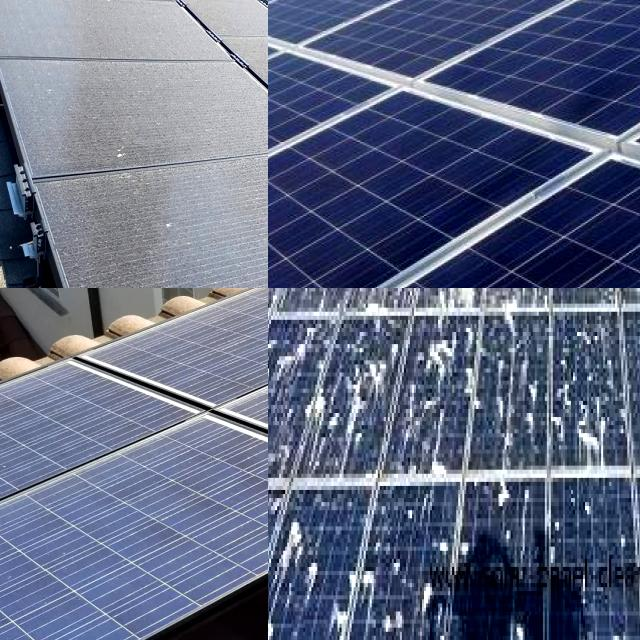bird: (489, 336, 540, 434), (353, 542, 403, 640), (342, 345, 390, 436), (286, 358, 331, 454), (422, 320, 468, 400), (490, 470, 530, 552), (566, 396, 614, 460), (274, 514, 300, 618), (432, 288, 474, 328), (617, 288, 640, 324), (572, 621, 598, 640), (607, 625, 631, 640)
crack: (268, 0, 640, 288), (268, 69, 602, 288)
dust: (80, 450, 266, 578), (18, 67, 244, 159), (82, 183, 268, 288), (0, 483, 94, 640), (0, 380, 125, 475), (0, 0, 180, 50), (0, 0, 134, 20), (0, 0, 97, 22)
